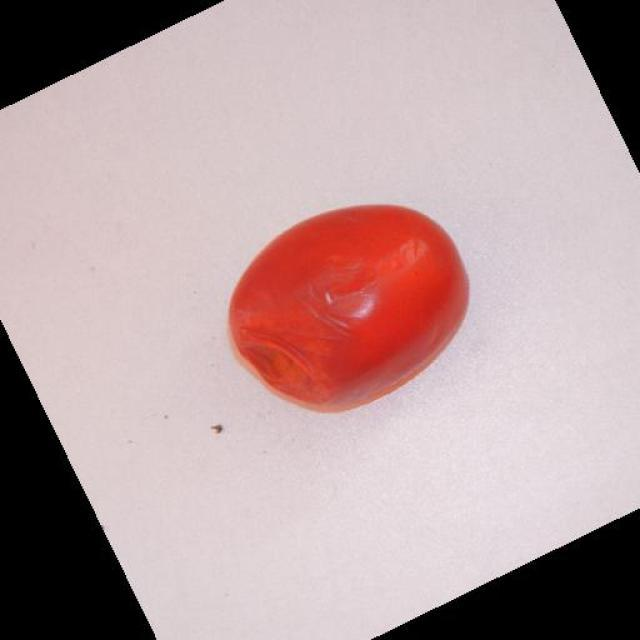Rotten Tomato: (219, 205, 472, 415)
